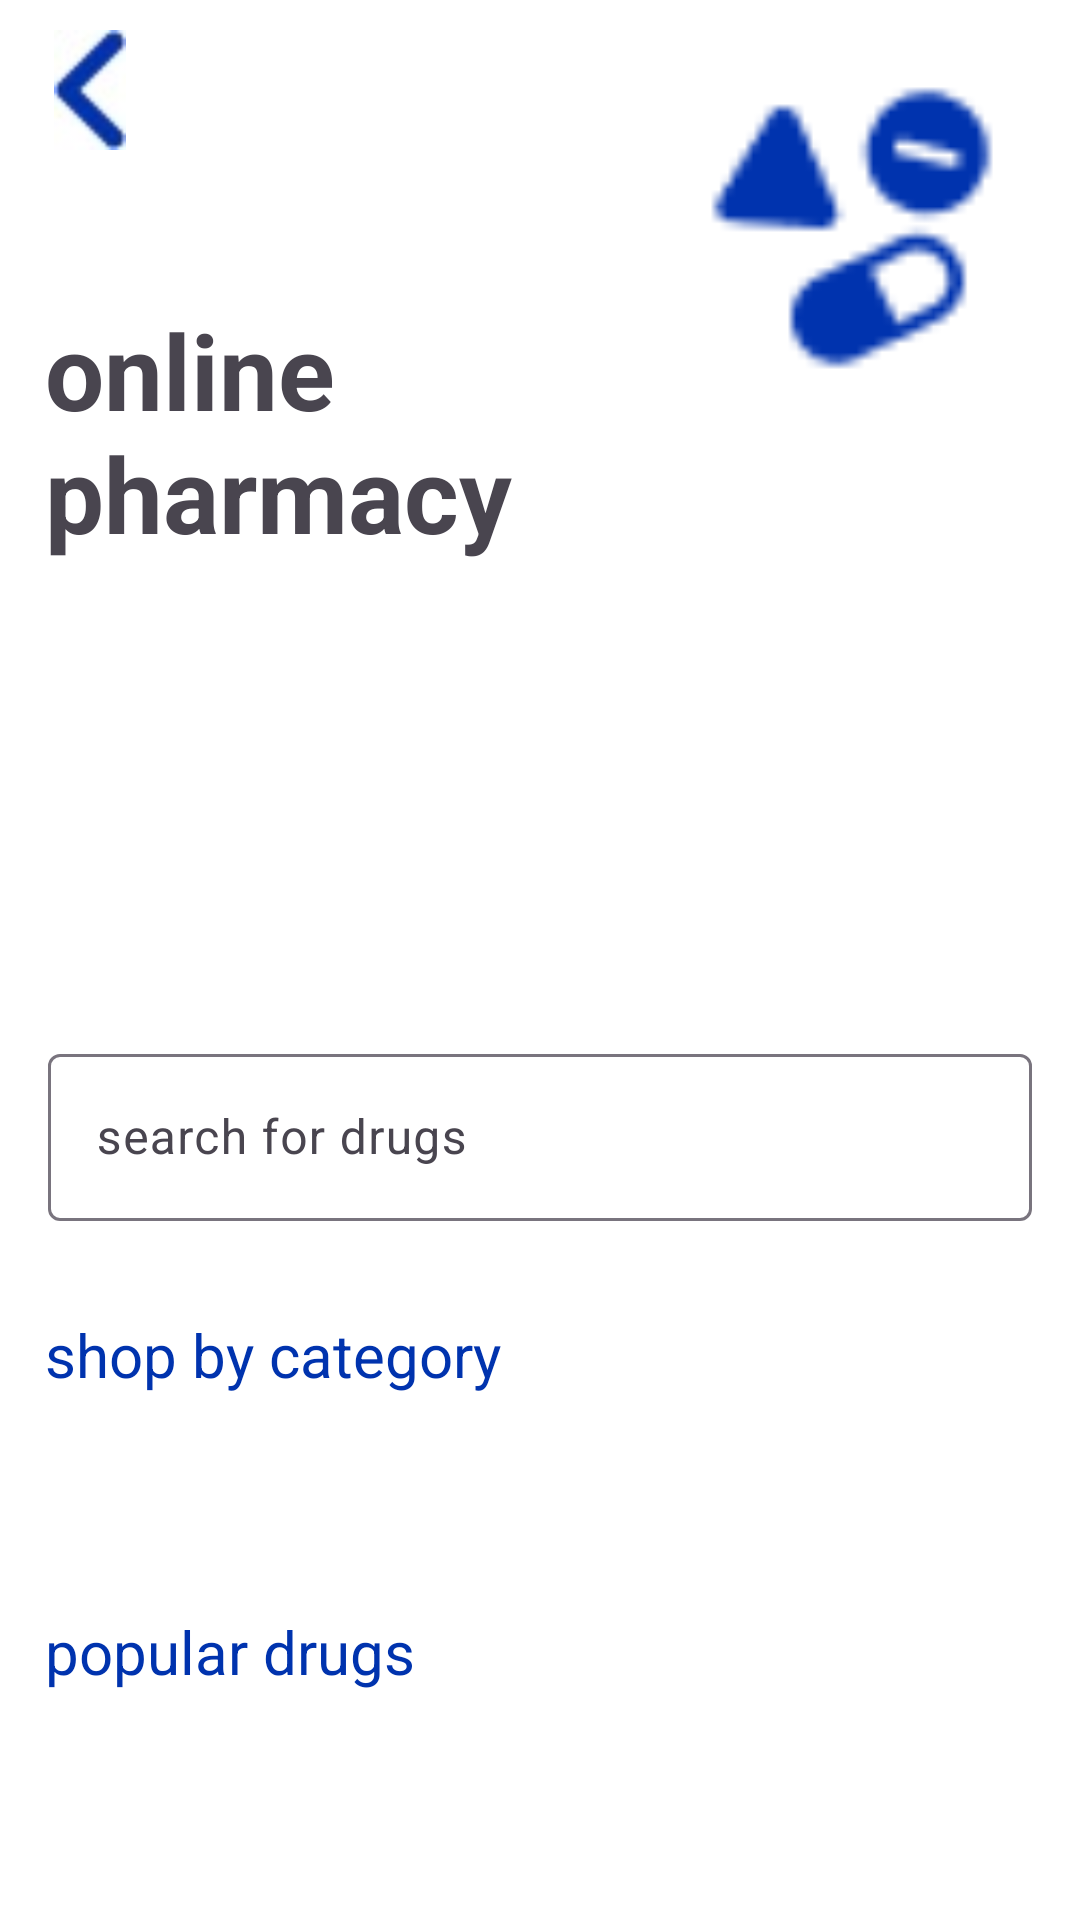

Icons on this 1080px x 1920px Android screen, each with the point to tap as (x=x, y=y):
arrow back: (x=90, y=90)
medicines: (x=852, y=228)
